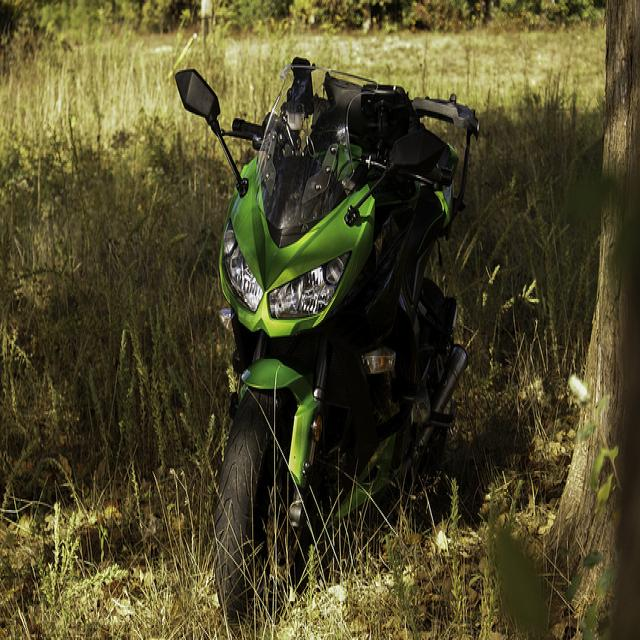motor: (175, 55, 487, 622)
